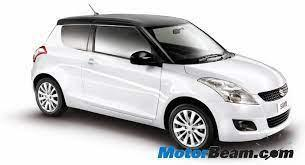Hatchback: (27, 11, 292, 148)
